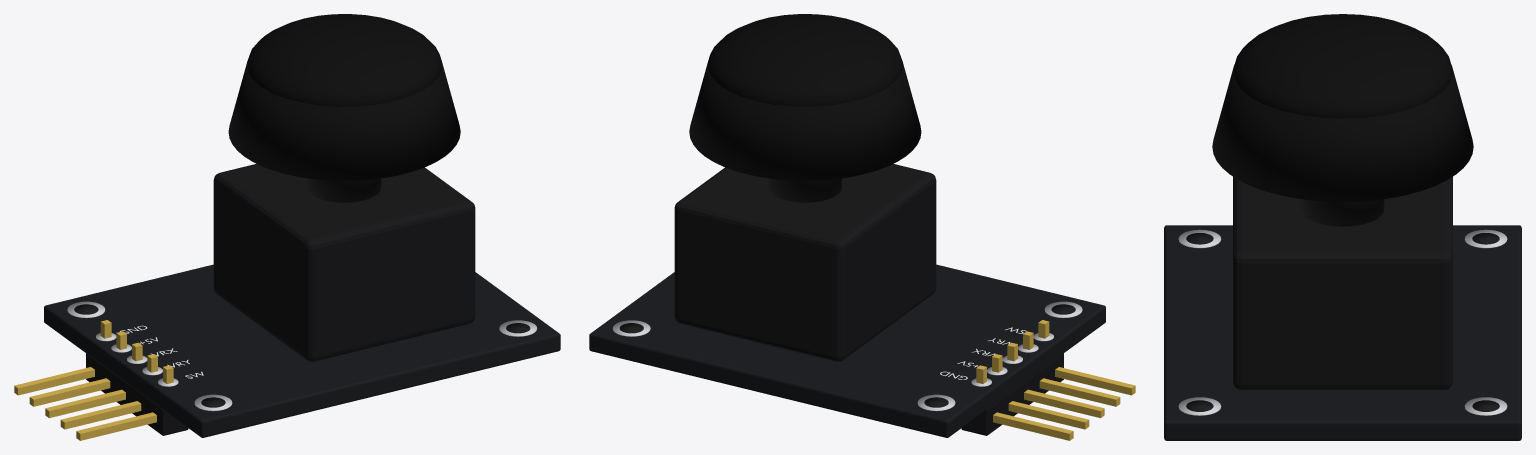
The model's file is joystick-module.glb.
3 renders of one model, left to right at view 1: azimuth 30°, elevation 25°; view 2: azimuth 150°, elevation 25°; view 3: azimuth 270°, elevation 25°, orthographic. The views are drawn at different scales.
Visible parts, largest first — view 1: part.094, pcb.034, part.096, part.097, header.034, part.095, pin_h.116, pin_h.118, pin_h.119, pin_h.115, pin_h.117; view 2: part.094, pcb.034, part.096, part.097, header.034, part.095, pin_h.116, pin_h.118, pin_h.115, pin_h.117, pin_h.119; view 3: part.094, pcb.034, part.096, part.097, part.095, hole_ring.059, hole_ring.060, hole_ring.061, hole_ring.062.
Boxes of the visible parts, x1,y1,x2,y2 form: part.094: (213, 164, 475, 361); pcb.034: (44, 264, 560, 437); part.096: (228, 61, 460, 180); part.097: (247, 14, 441, 106); header.034: (86, 353, 188, 435); part.095: (308, 178, 381, 202); pin_h.116: (29, 378, 110, 406); pin_h.118: (60, 401, 141, 429); pin_h.119: (76, 412, 156, 440); pin_h.115: (14, 367, 94, 395); pin_h.117: (45, 389, 125, 418); part.094: (674, 164, 936, 361); pcb.034: (589, 264, 1105, 437); part.096: (689, 61, 921, 180); part.097: (708, 14, 902, 106); header.034: (961, 353, 1063, 435); part.095: (768, 178, 841, 202); pin_h.116: (1008, 401, 1089, 429); pin_h.118: (1039, 378, 1120, 406); pin_h.115: (993, 412, 1073, 440); pin_h.117: (1024, 389, 1104, 418); pin_h.119: (1055, 367, 1135, 395); part.094: (1233, 176, 1452, 389); pcb.034: (1164, 225, 1521, 440); part.096: (1212, 65, 1473, 201); part.097: (1233, 14, 1452, 118); part.095: (1301, 199, 1384, 226); hole_ring.059: (1464, 397, 1507, 415); hole_ring.060: (1178, 397, 1221, 415); hole_ring.061: (1464, 229, 1507, 248); hole_ring.062: (1178, 229, 1221, 248).
Bounding box in the file's own units: 0.0411 × 0.0289 × 0.026.
